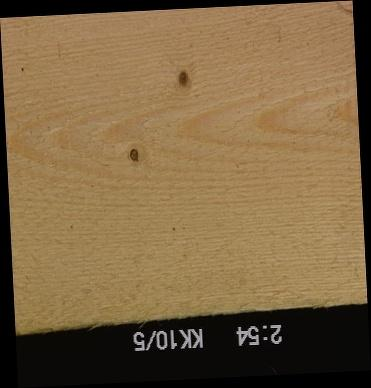dry_knot: (176, 69, 189, 88), (128, 147, 139, 162)
